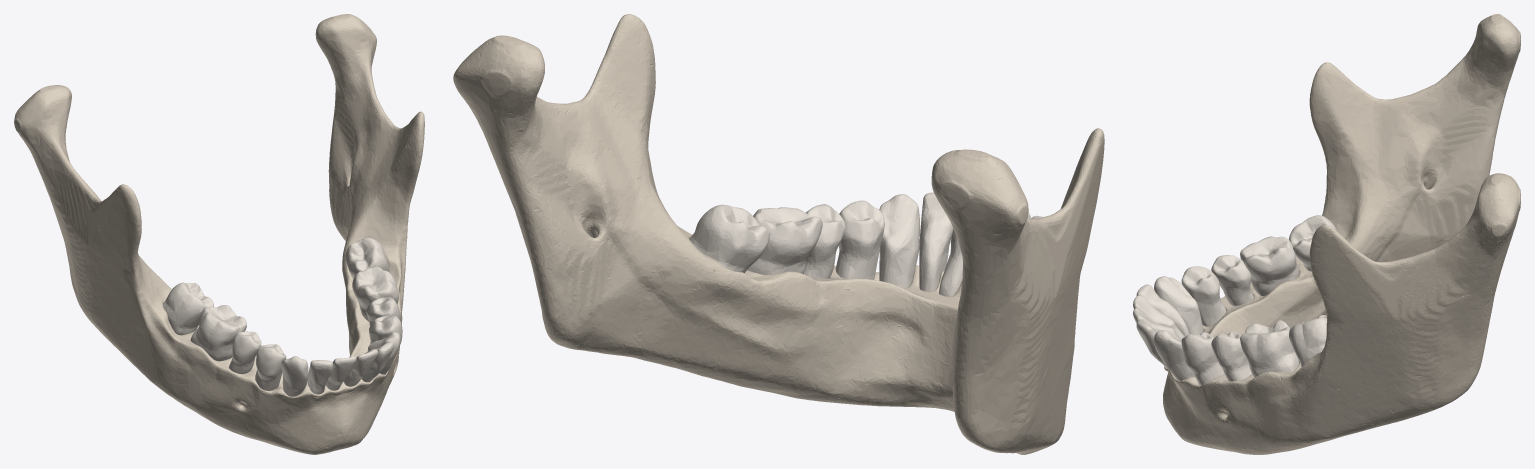
Rendered from healthy.glb.
3 renders of one model, left to right at view 1: azimuth 30°, elevation 25°; view 2: azimuth 150°, elevation 25°; view 3: azimuth 270°, elevation 25°, orthographic. The views are drawn at different scales.
Parts seen in each view (by area): view 1: bone, teeth; view 2: bone, teeth; view 3: bone, teeth.
Part boxes in pixels (<box>): bone: <box>14,14,424,454</box>; teeth: <box>163,237,402,396</box>; bone: <box>453,14,1104,454</box>; teeth: <box>689,192,1043,296</box>; bone: <box>1163,14,1520,454</box>; teeth: <box>1133,215,1336,385</box>.
Size of the model in its own units: 0.1032 by 0.082 by 0.0867.
